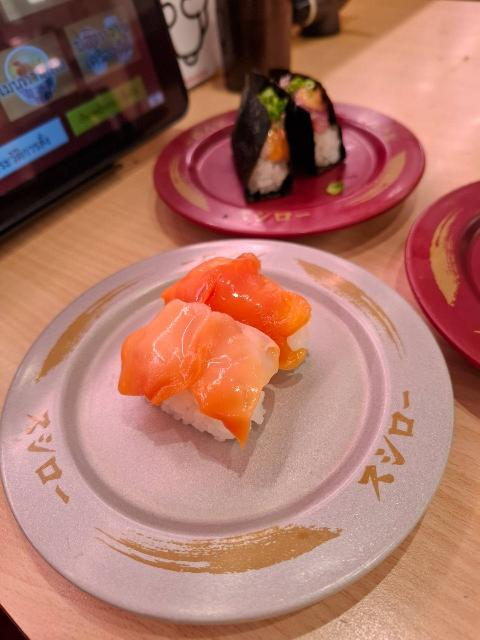janred: (161, 67, 421, 220), (418, 199, 480, 365)
janwhite: (64, 296, 410, 574)
